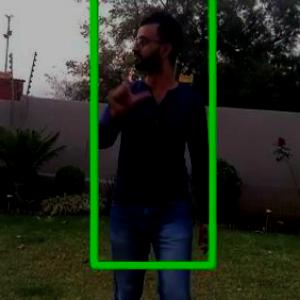land_hand: (103, 62, 153, 118)
